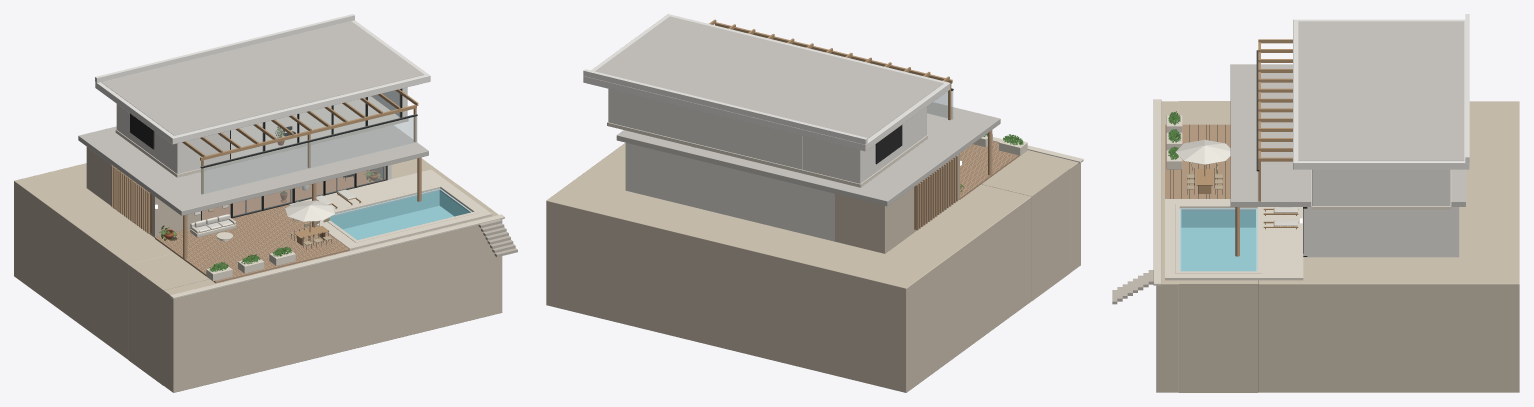
The model's file is villa_interior.glb.
3 views of the same model, side by side, from view 1: azimuth 30°, elevation 25°; view 2: azimuth 150°, elevation 25°; view 3: azimuth 270°, elevation 25° (orthographic). The views are drawn at different scales.
Parts seen in each view (by area): view 1: podium_front, roof_gravel, podium_back, slab, deck, balcony_glass, podium_w, band_upper, roof_slab, uf_glass, pool_water, uf_left (+16 smaller); view 2: podium_back, roof_gravel, gf_back, slab, uf_back, podium_w, roof_slab, gf_left, uf_left, roof_parapet_back, deck, podium_front (+3 smaller); view 3: podium_back, roof_gravel, podium_e, slab, gf_right, uf_right, pool_water, podium_front, roof_slab, pool_floor, deck, pool_deck_n (+11 smaller).
Boxes of the visible parts, x1,y1,x2,y2 form: podium_front: (163, 210, 502, 392); roof_gravel: (101, 21, 424, 135); podium_back: (14, 158, 456, 359); slab: (78, 125, 428, 215); deck: (155, 204, 349, 283); balcony_glass: (201, 114, 416, 194); podium_w: (128, 253, 209, 385); band_upper: (115, 96, 408, 177); roof_slab: (95, 20, 430, 144); uf_glass: (231, 89, 400, 158); pool_water: (330, 191, 468, 239); uf_left: (116, 104, 229, 173); podium_back: (546, 143, 1031, 392); roof_gravel: (595, 16, 943, 138); gf_back: (626, 142, 834, 241); slab: (616, 102, 1000, 206); uf_back: (608, 89, 802, 169); podium_w: (982, 156, 1070, 300); roof_slab: (583, 14, 950, 151); gf_left: (834, 153, 959, 253); uf_left: (803, 107, 926, 183); roof_parapet_back: (583, 69, 867, 144); deck: (959, 141, 1019, 199); podium_front: (1020, 150, 1080, 272); podium_back: (1258, 101, 1519, 392); roof_gravel: (1298, 21, 1464, 160); podium_e: (1178, 280, 1258, 392); slab: (1230, 64, 1465, 206); gf_right: (1303, 207, 1459, 257); uf_right: (1312, 169, 1443, 205); pool_water: (1181, 211, 1255, 270); podium_front: (1156, 101, 1178, 392); roof_slab: (1293, 19, 1469, 169); pool_floor: (1181, 227, 1255, 271); deck: (1165, 124, 1230, 198); pool_deck_n: (1262, 207, 1303, 280).
Bounding box in the file's own units: 25.2 × 14.6 × 23.55.
58 materials, 26 textured.
